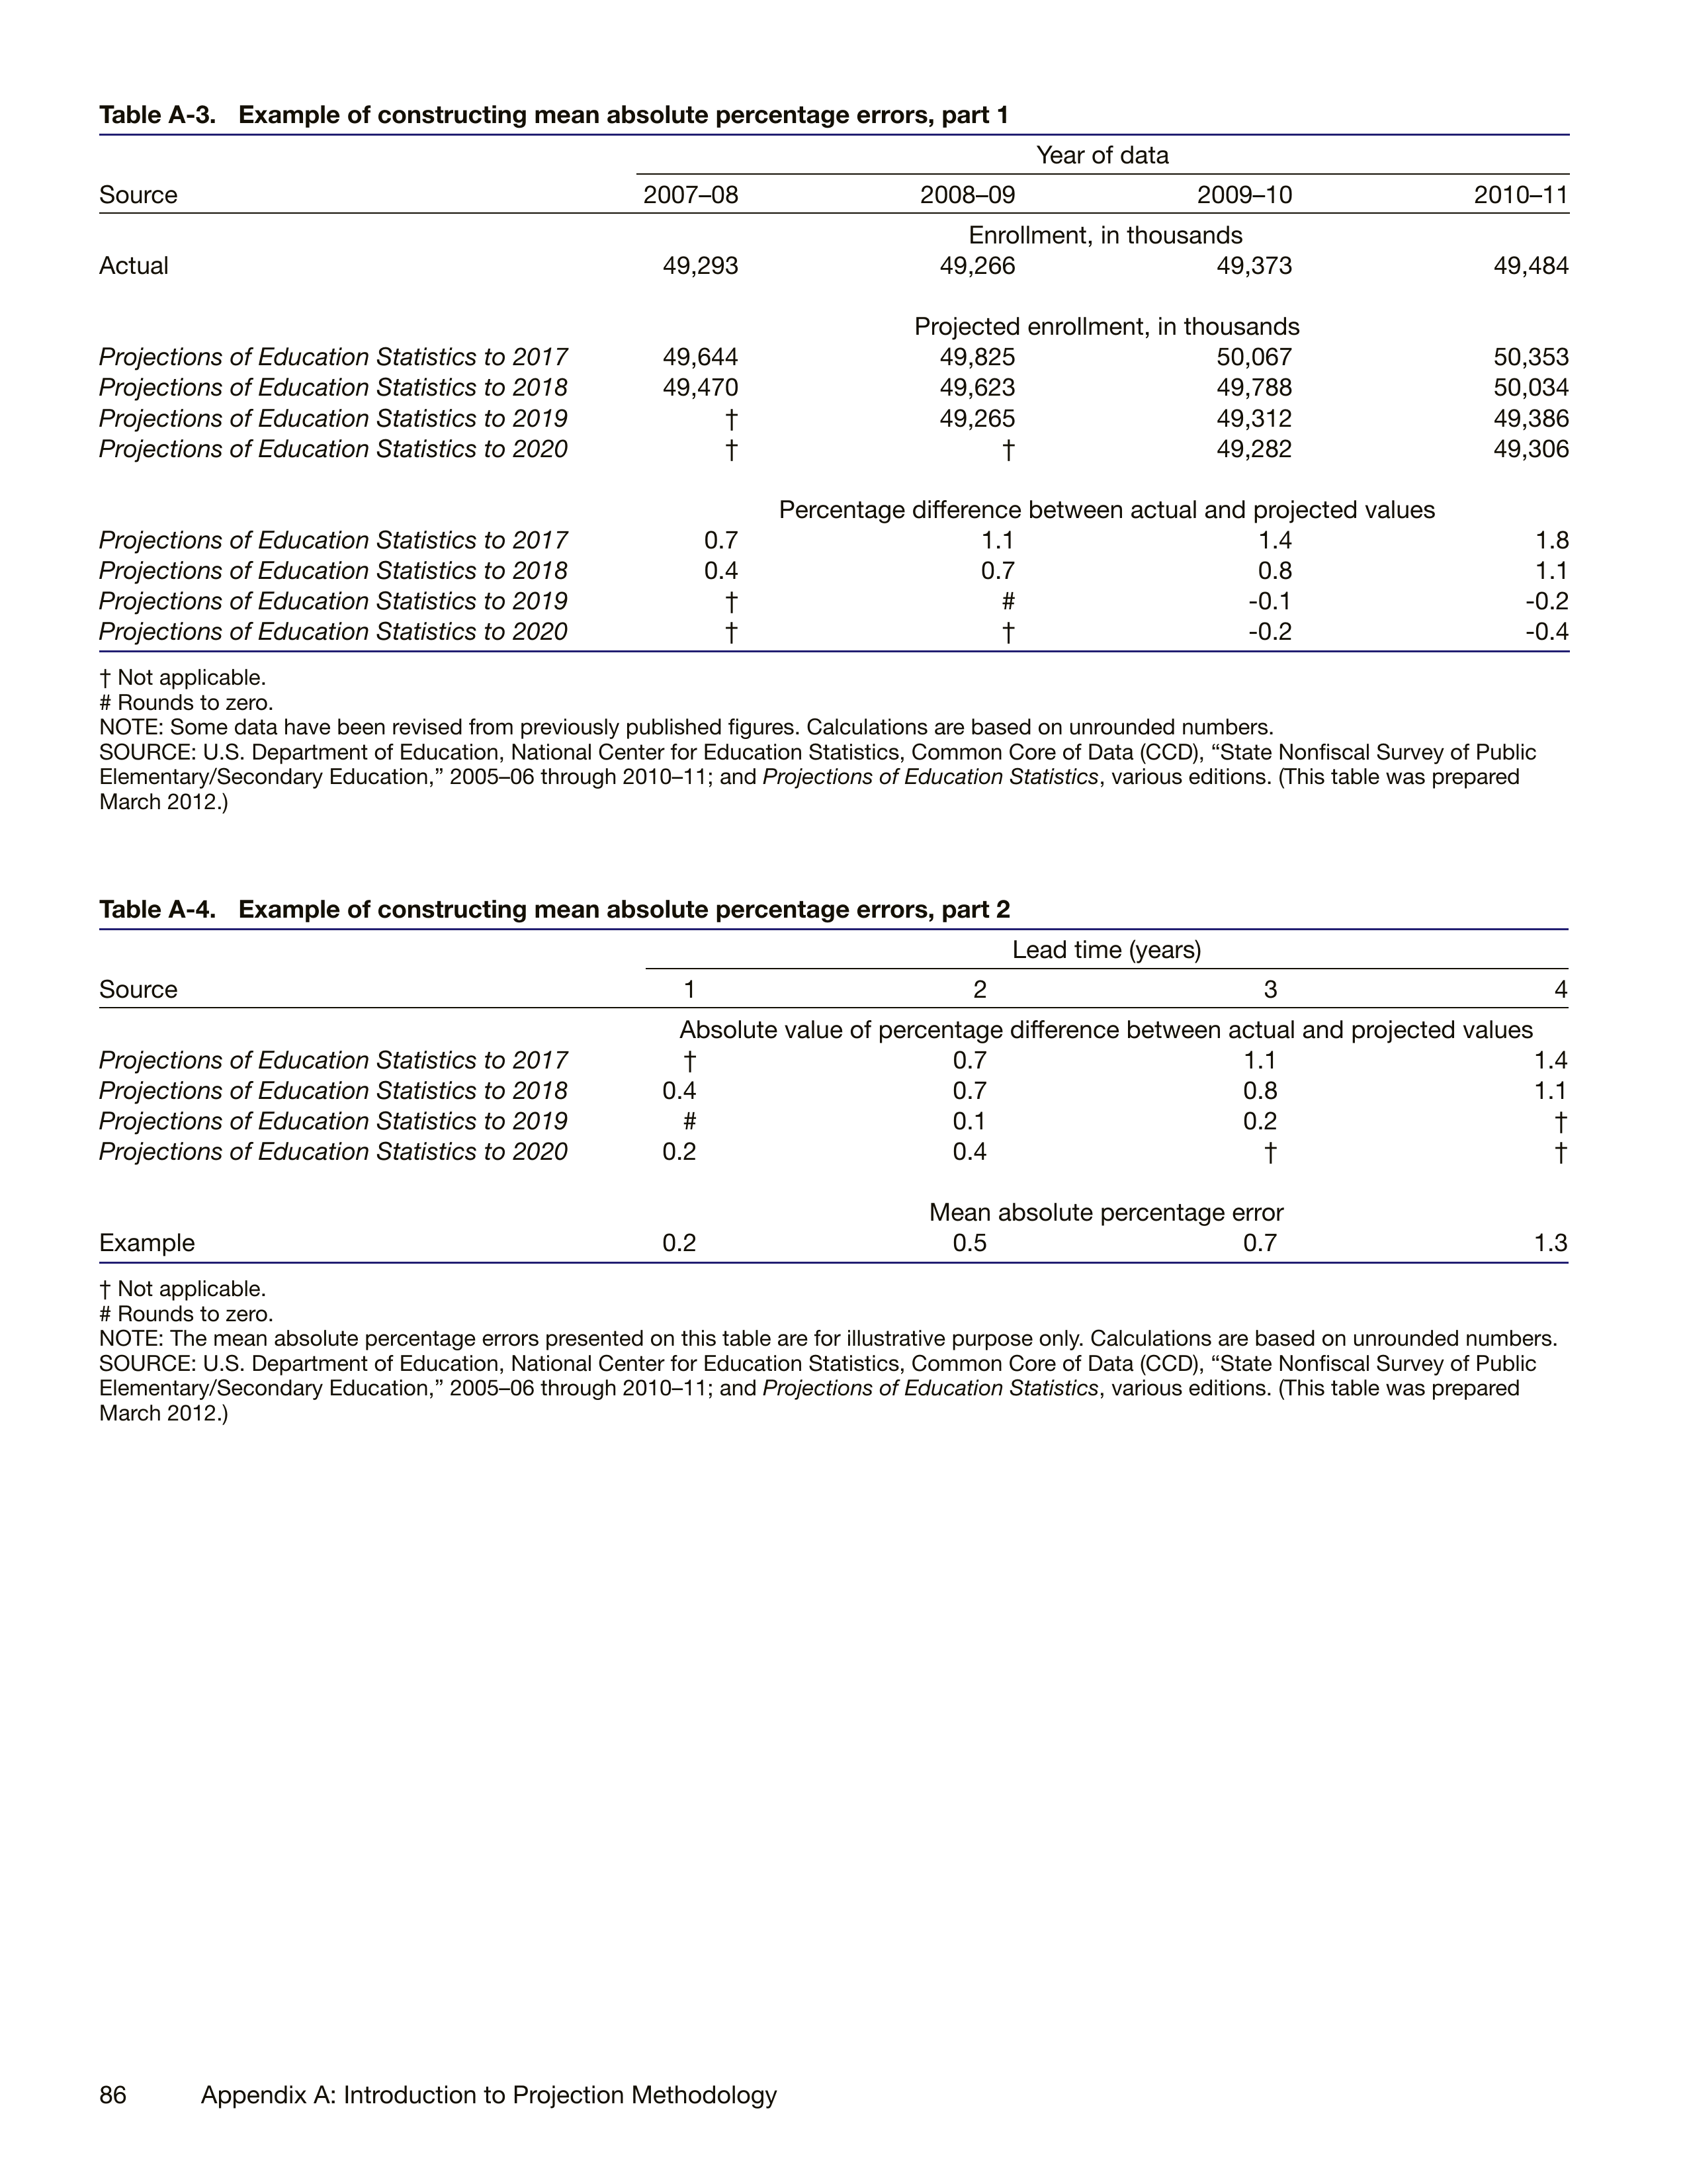table: (90, 129, 1581, 655), (92, 923, 1577, 1266)
